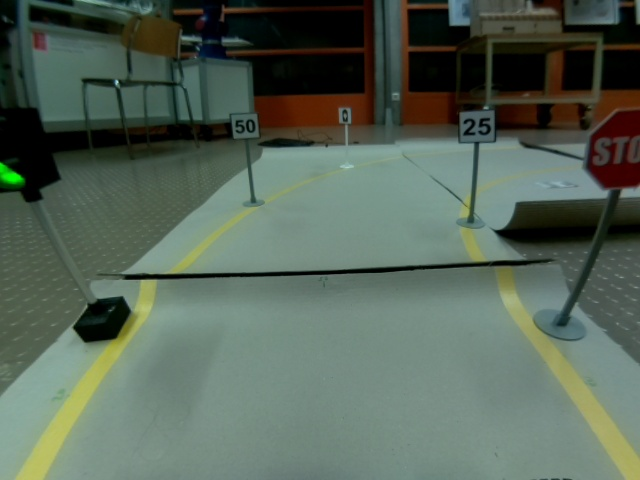battery: (337, 105, 352, 125)
speed25: (456, 108, 497, 144)
speed50: (228, 112, 263, 141)
stop: (582, 106, 640, 191)
traffic light: (1, 106, 63, 194)
